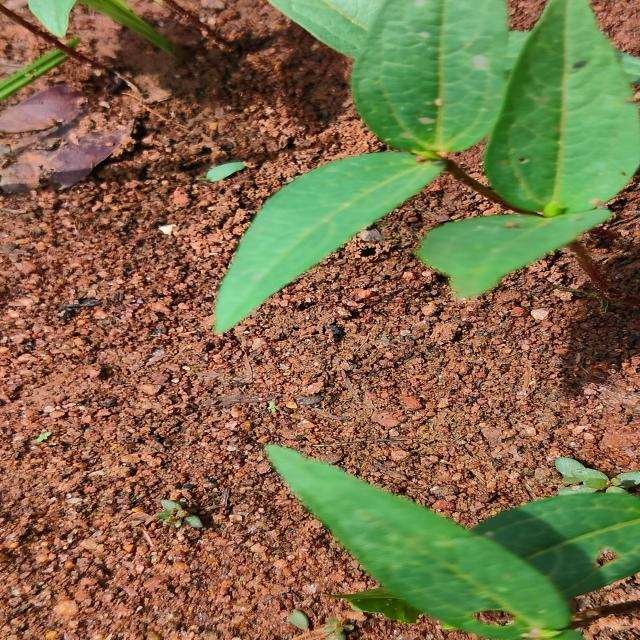Black gram_healthy: (256, 442, 565, 640), (222, 139, 449, 337), (485, 0, 640, 216)
